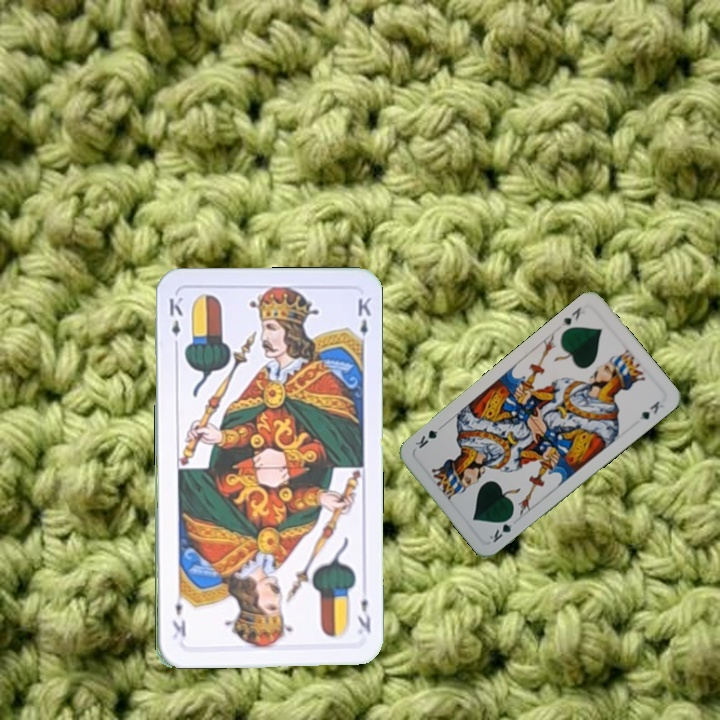EK: (165, 293, 185, 352), (353, 594, 373, 635)
GK: (485, 511, 517, 545), (557, 303, 588, 330)
